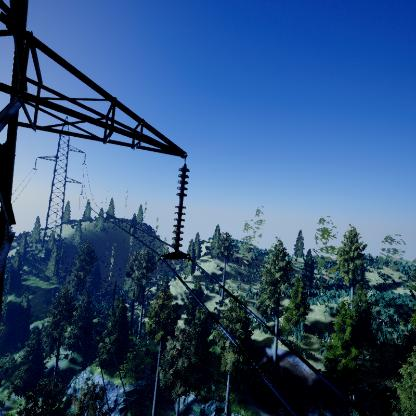insulator: (169, 165, 191, 252)
tower: (28, 110, 91, 263)
